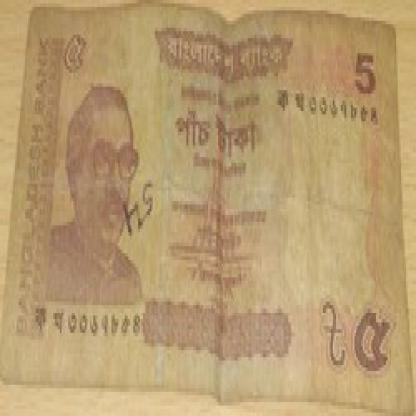Five Taka: (173, 97, 260, 163), (351, 302, 393, 381), (351, 45, 378, 101), (62, 24, 86, 73)
